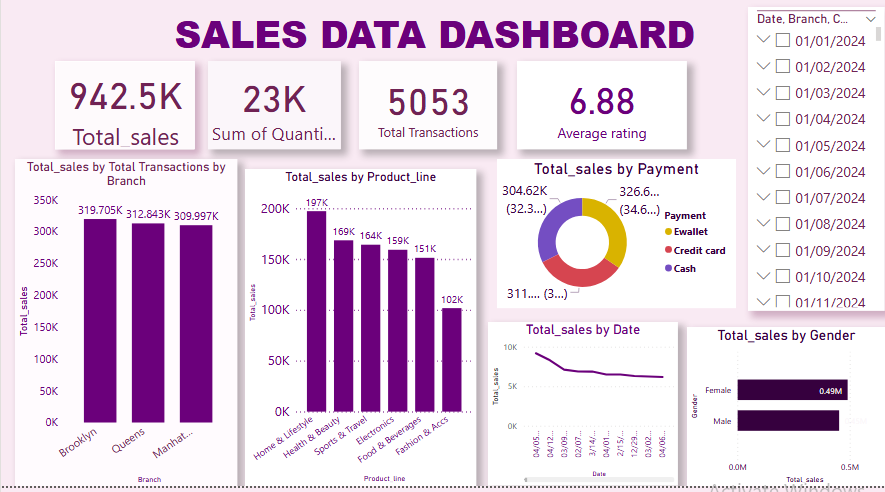

The dashboard page shown, as its layout file describes it:
{"tool":"powerbi","page":{"name":"Page 1","canvas":[1280,720],"ordinal":0},"visuals":[{"type":"card","fields":{"Values":["sales_supermarket_datas.Total_sales"]},"box":[78.4,104.5,202.4,128.4],"z":0},{"type":"textbox","box":[246,21.8,798.9,100.1],"z":1000},{"type":"card","fields":{"Values":["Sum(sales_supermarket_datas.Quantity)"]},"box":[300.4,104.5,191.6,128.4],"z":2000},{"type":"card","fields":{"Values":["sales_supermarket_datas.Average Ratings"]},"box":[518.1,104.5,200.3,128.4],"z":3000},{"type":"columnChart","title":"Total_sales by Total Transactions by Branch","fields":{"Y":["sales_supermarket_datas.Total_sales"],"Category":["sales_supermarket_datas.Branch"]},"box":[19.6,246,322.2,474.6],"z":4000},{"type":"clusteredColumnChart","fields":{"Y":["sales_supermarket_datas.Total_sales"],"Category":["sales_supermarket_datas.Product_line"]},"box":[352.7,261.2,335.2,459.3],"z":5000},{"type":"lineChart","fields":{"Category":["sales_supermarket_datas.Date"],"Y":["sales_supermarket_datas.Total_sales"]},"box":[705.2,482.2,275.1,237.5],"z":6000},{"type":"card","fields":{"Values":["sales_supermarket_datas.Average rating"]},"box":[746.7,104.5,246,128.4],"z":7000},{"type":"donutChart","fields":{"Category":["sales_supermarket_datas.Payment"],"Y":["sales_supermarket_datas.Total_sales"]},"box":[718.4,246,346.1,215.5],"z":8000},{"type":"barChart","fields":{"Category":["sales_supermarket_datas.Gender"],"Y":["sales_supermarket_datas.Total_sales"]},"box":[992.7,489.8,287.3,230.7],"z":9000},{"type":"slicer","fields":{"Values":["sales_supermarket_datas.Date","sales_supermarket_datas.Branch","sales_supermarket_datas.Customer_type","sales_supermarket_datas.Gender","sales_supermarket_datas.Product_line","sales_supermarket_datas.Payment"]},"box":[1081.6,26.1,198.4,440.2],"z":10000}]}

Visuals, with their boxes in screenshot pixels (x1, y1, x2, y2), scaled from the page's 1280x720 canvas onto the 885x492 screenshot:
card - sales_supermarket_datas.Total_sales: Rect(54, 71, 194, 159)
textbox: Rect(170, 15, 722, 83)
card - Sum(sales_supermarket_datas.Quantity): Rect(208, 71, 340, 159)
card - sales_supermarket_datas.Average Ratings: Rect(358, 71, 497, 159)
"Total_sales by Total Transactions by Branch" columnChart: Rect(14, 168, 236, 491)
clusteredColumnChart - sales_supermarket_datas.Total_sales x sales_supermarket_datas.Product_line: Rect(244, 178, 476, 491)
lineChart - sales_supermarket_datas.Date x sales_supermarket_datas.Total_sales: Rect(488, 330, 678, 491)
card - sales_supermarket_datas.Average rating: Rect(516, 71, 686, 159)
donutChart - sales_supermarket_datas.Payment x sales_supermarket_datas.Total_sales: Rect(497, 168, 736, 315)
barChart - sales_supermarket_datas.Gender x sales_supermarket_datas.Total_sales: Rect(686, 335, 884, 491)
slicer - sales_supermarket_datas.Date x sales_supermarket_datas.Branch: Rect(748, 18, 884, 319)
